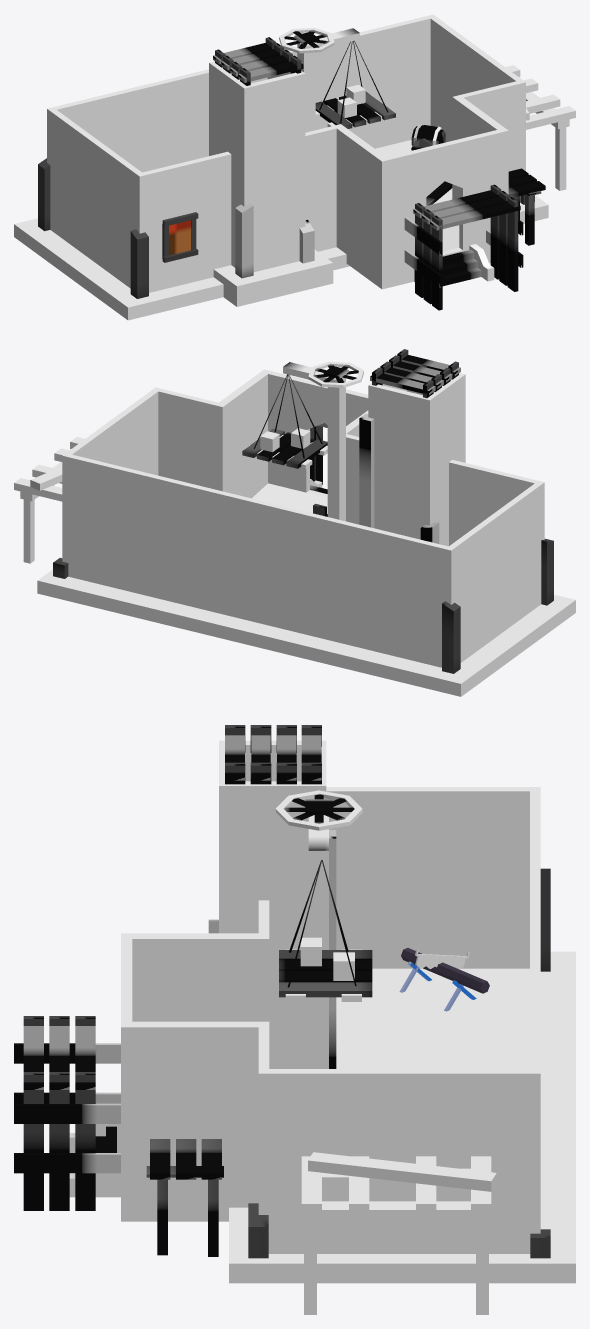
File: TownHallPhase01.fbx
3 renders of one model, top to bottom at view 1: azimuth 30°, elevation 25°; view 2: azimuth 150°, elevation 25°; view 3: azimuth 270°, elevation 25°, orthographic. The views are drawn at different scales.
Parts seen in each view (by area): view 1: TownHallPhase01; view 2: TownHallPhase01; view 3: TownHallPhase01.
Boxes of the visible parts, bbox=[...] form: TownHallPhase01: bbox=[14, 14, 575, 320]; TownHallPhase01: bbox=[14, 349, 575, 696]; TownHallPhase01: bbox=[14, 725, 575, 1314].
Size of the model in its own units: 7.72 by 3.43 by 5.24.
